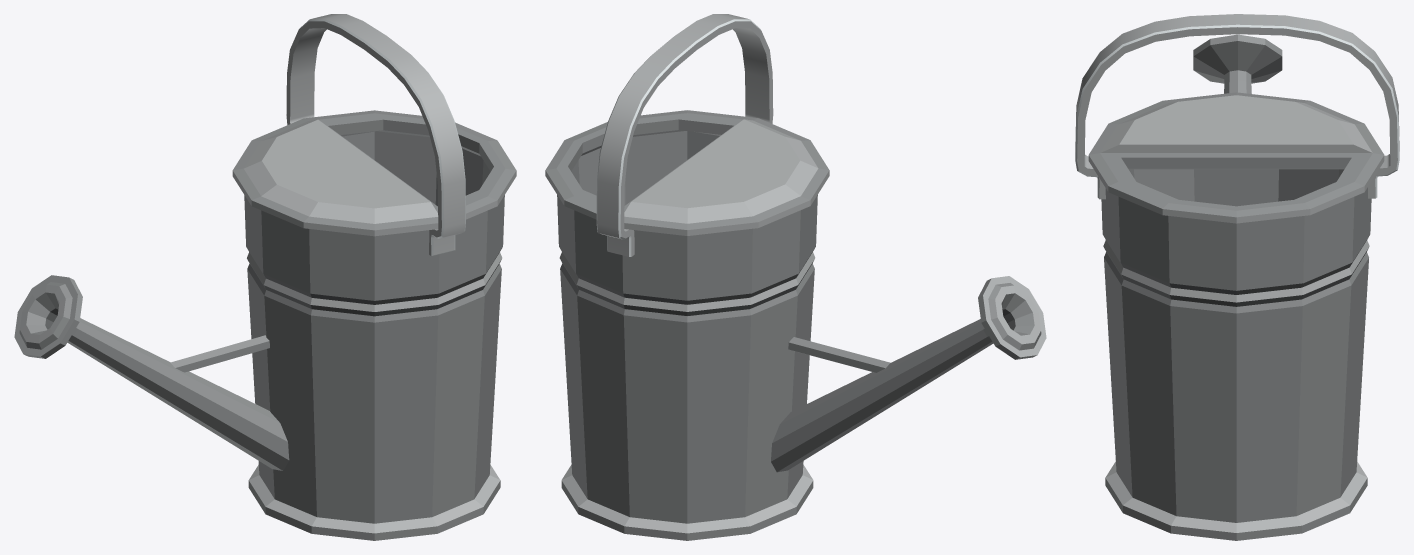
Rendered from wateringcan.fbx.
3 views of the same model, side by side, from view 1: azimuth 30°, elevation 25°; view 2: azimuth 150°, elevation 25°; view 3: azimuth 270°, elevation 25° (orthographic). The views are drawn at different scales.
Parts seen in each view (by area): view 1: pCube347; view 2: pCube347; view 3: pCube347.
Boxes of the visible parts, x1,y1,x2,y2 form: pCube347: (14,14,516,540); pCube347: (545,14,1046,540); pCube347: (1075,14,1399,540).
Size of the model in its own units: 13.56 by 12.27 by 7.72.
1 material, 1 textured.
